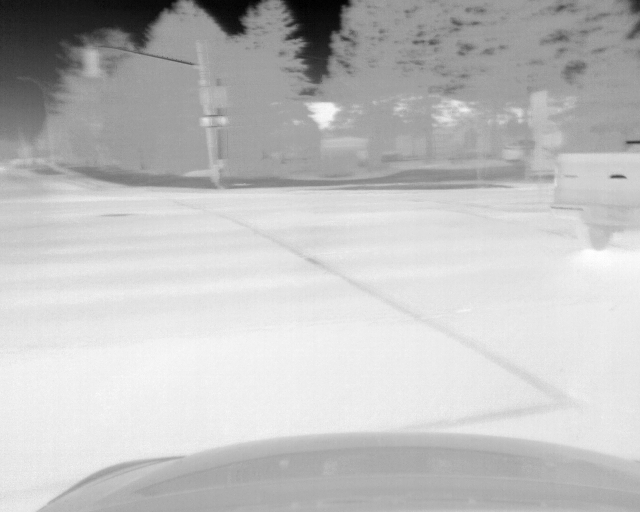car: (548, 140, 640, 252)
